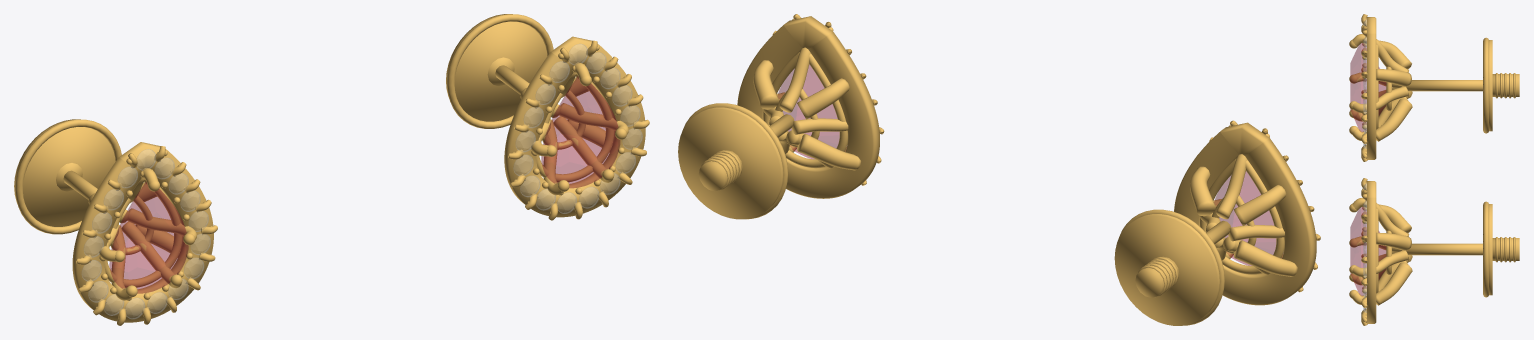
File: Earring_PearCluster_Preview.glb
3 renders of one model, left to right at view 1: azimuth 30°, elevation 25°; view 2: azimuth 150°, elevation 25°; view 3: azimuth 270°, elevation 25°, orthographic. The views are drawn at different scales.
Visible parts, largest first — view 1: Halo_Frame, Halo_Frame.001, Attach_Back.001, Attach_Back, PreviewGem_Pair, PreviewGem_Center, Accent_Halo, Accent_Halo.001, Head_Center.001, Head_Center, Attach_Post, Attach_Post.001; view 2: Halo_Frame.001, Halo_Frame, Attach_Back, Attach_Back.001, Head_Center, Head_Center.001, PreviewGem_Pair, PreviewGem_Center; view 3: Halo_Frame.001, Halo_Frame, Head_Center, Head_Center.001, Attach_Back, Attach_Back.001, PreviewGem_Center, PreviewGem_Pair, Attach_Post, Attach_Post.001, Accent_Halo.001, Accent_Halo.
Part boxes in pixels (<box>): Halo_Frame: <box>504,36,649,220</box>; Halo_Frame.001: <box>72,142,217,325</box>; Attach_Back.001: <box>14,119,121,234</box>; Attach_Back: <box>446,14,553,128</box>; PreviewGem_Pair: <box>109,182,188,293</box>; PreviewGem_Center: <box>541,76,619,187</box>; Accent_Halo: <box>513,44,642,213</box>; Accent_Halo.001: <box>82,149,210,318</box>; Head_Center.001: <box>99,167,196,300</box>; Head_Center: <box>531,62,628,195</box>; Attach_Post: <box>495,65,560,117</box>; Attach_Post.001: <box>63,170,129,223</box>; Halo_Frame.001: <box>1174,120,1320,305</box>; Halo_Frame: <box>737,14,884,198</box>; Attach_Back: <box>678,103,788,219</box>; Attach_Back.001: <box>1114,209,1224,325</box>; Head_Center: <box>762,47,848,168</box>; Head_Center.001: <box>1199,154,1284,274</box>; PreviewGem_Pair: <box>1214,171,1282,265</box>; PreviewGem_Center: <box>777,65,846,158</box>; Halo_Frame.001: <box>1361,14,1412,161</box>; Halo_Frame: <box>1361,178,1412,325</box>; Head_Center: <box>1349,198,1409,304</box>; Head_Center.001: <box>1349,34,1408,140</box>; Attach_Back: <box>1483,201,1519,297</box>; Attach_Back.001: <box>1483,37,1519,133</box>; PreviewGem_Center: <box>1350,207,1385,295</box>; PreviewGem_Pair: <box>1350,43,1385,131</box>; Attach_Post: <box>1402,243,1482,255</box>; Attach_Post.001: <box>1402,80,1482,91</box>; Accent_Halo.001: <box>1363,20,1366,148</box>; Accent_Halo: <box>1363,183,1366,312</box>.
Bounding box in the file's own units: 0.0371 × 0.011 × 0.0123.
